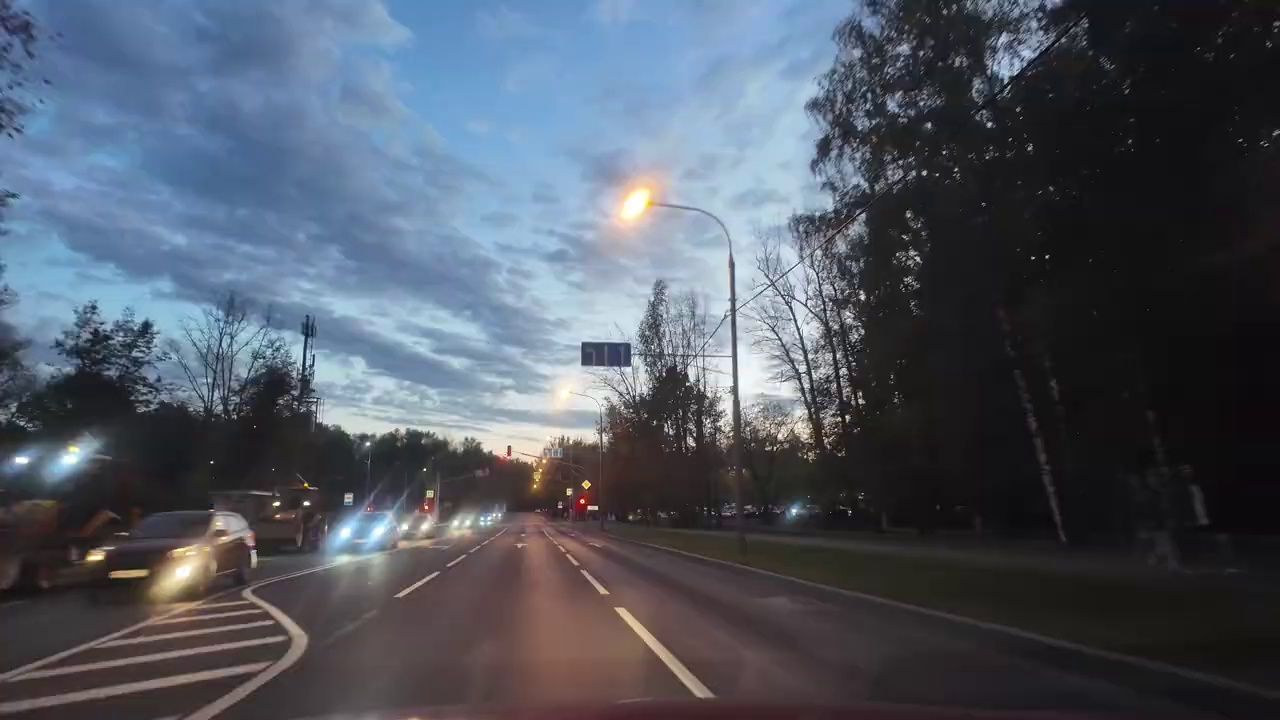acesa: (612, 183, 661, 231)
